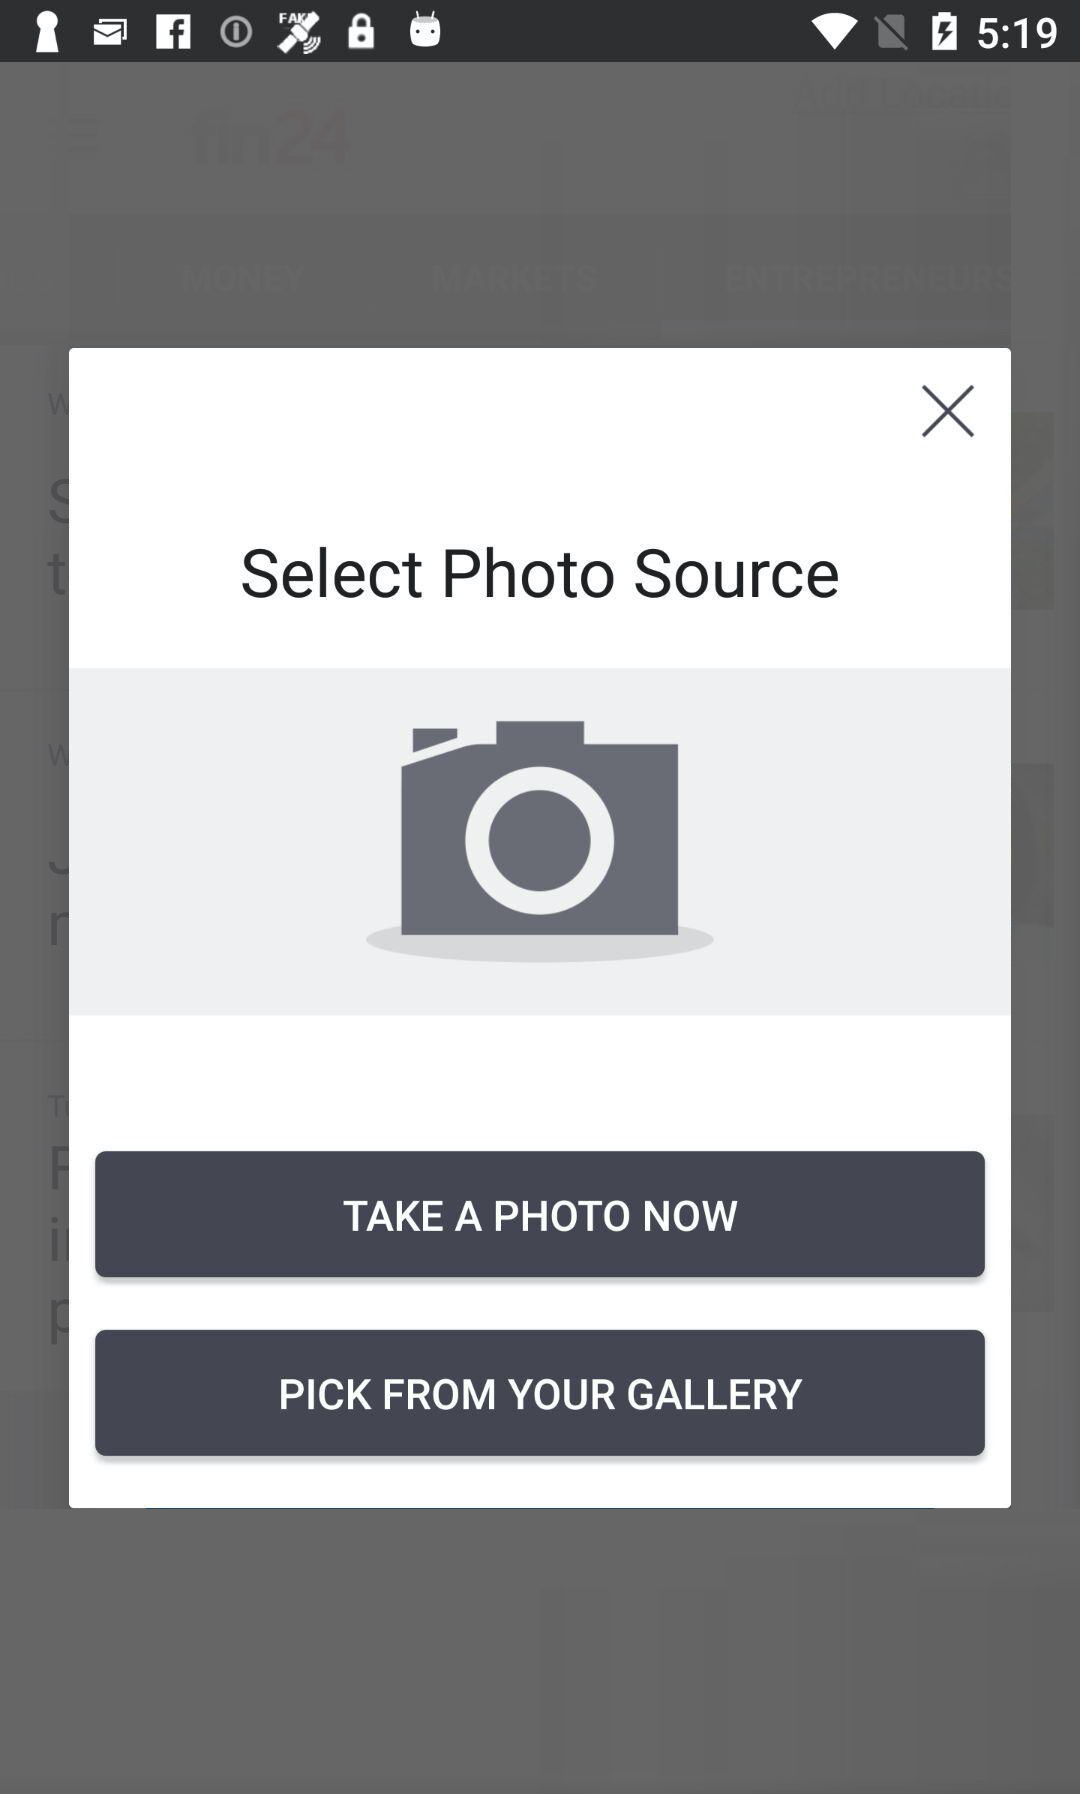Icon: (920, 384, 975, 440)
Image: (368, 721, 714, 964)
Modal: (69, 349, 1012, 1510)
Text: (243, 547, 839, 600)
TextButton: (95, 1149, 986, 1279), (95, 1329, 986, 1457)
UpperTaskBar: (1, 1, 1080, 64)
